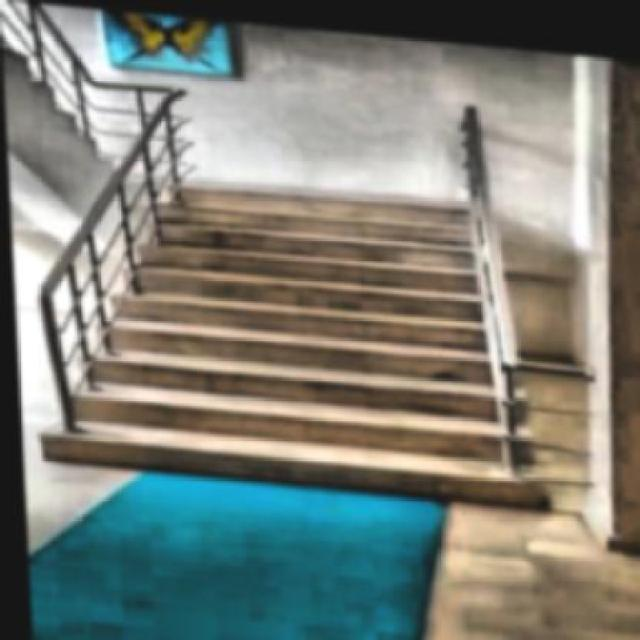stair: (14, 168, 577, 508)
